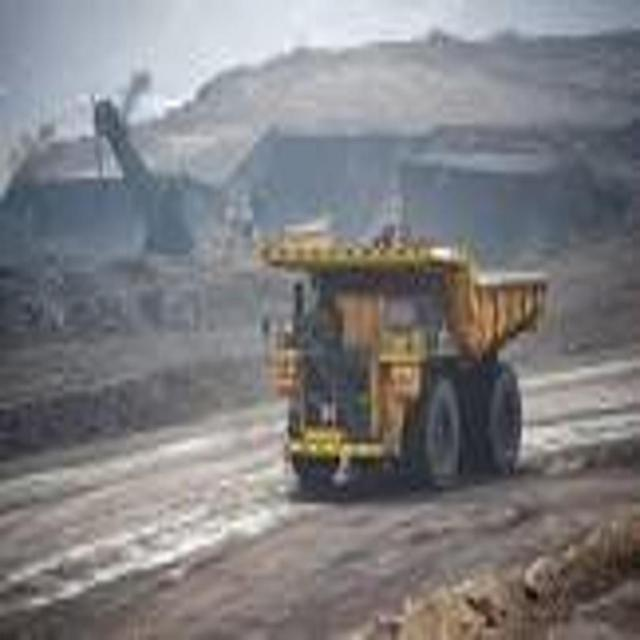dump_truck: (254, 216, 550, 496)
